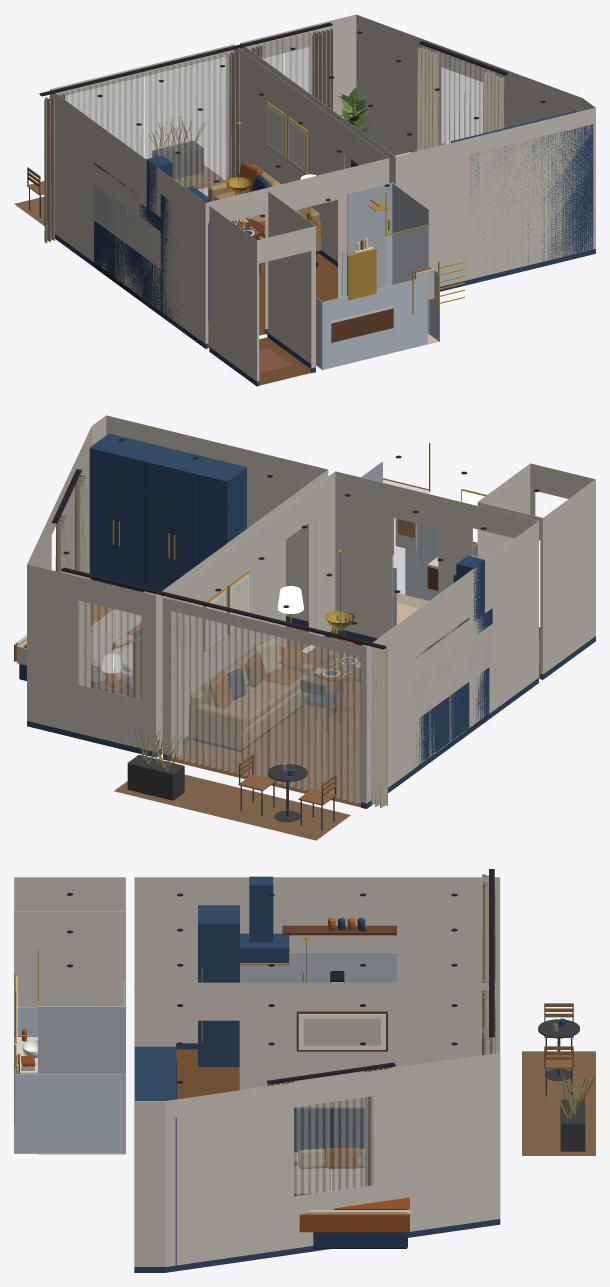
The model's file is unit-1.B-lisboa.glb.
3 renders of one model, top to bottom at view 1: azimuth 30°, elevation 25°; view 2: azimuth 150°, elevation 25°; view 3: azimuth 270°, elevation 25°, orthographic. The views are drawn at different scales.
Parts seen in each view (by area): view 1: int-wall, int-sheer, int-curtain, int-joineryTall, int-bathWall, int-showerWall, int-joinery, int-metal, int-glass, int-matteBlack, int-wood, int-splash (+10 smaller); view 2: int-wall, int-sheer, int-joineryTall, int-floor, int-curtain, int-joinery, int-sofa, int-deck, int-outdoor, int-glass, int-wood, int-bathWall (+12 smaller); view 3: int-wall, int-bathWall, int-joineryTall, int-sheer, int-showerWall, int-deck, int-joinery, int-headboard, int-splash, int-bedThrow, int-outdoor, int-art:7:1 (+11 smaller).
Boxes of the visible parts, left/top/right/bottom form: int-wall: left=50, top=14, right=595, bottom=381; int-sheer: left=58, top=30, right=494, bottom=196; int-curtain: left=44, top=28, right=504, bottom=243; int-joineryTall: left=160, top=111, right=593, bottom=328; int-bathWall: left=316, top=250, right=439, bottom=369; int-showerWall: left=347, top=182, right=429, bottom=333; int-joinery: left=55, top=155, right=595, bottom=386; int-metal: left=139, top=101, right=464, bottom=314; int-glass: left=386, top=225, right=430, bottom=333; int-matteBlack: left=39, top=22, right=508, bottom=315; int-wood: left=94, top=159, right=393, bottom=342; int-splash: left=94, top=185, right=160, bottom=256; int-wall: left=27, top=415, right=595, bottom=803; int-sheer: left=55, top=486, right=360, bottom=803; int-joineryTall: left=89, top=433, right=456, bottom=592; int-floor: left=171, top=621, right=370, bottom=807; int-curtain: left=55, top=474, right=387, bottom=807; int-joinery: left=27, top=555, right=595, bottom=808; int-sofa: left=189, top=641, right=314, bottom=749; int-deck: left=114, top=774, right=350, bottom=840; int-outdoor: left=127, top=754, right=336, bottom=830; int-glass: left=383, top=479, right=429, bottom=607; int-wood: left=94, top=567, right=469, bottom=718; int-bathWall: left=392, top=523, right=477, bottom=627; int-wall: left=14, top=877, right=500, bottom=1266; int-bathWall: left=14, top=1007, right=125, bottom=1153; int-joineryTall: left=134, top=905, right=239, bottom=1271; int-sheer: left=294, top=885, right=495, bottom=1196; int-showerWall: left=38, top=981, right=125, bottom=1153; int-deck: left=522, top=1051, right=595, bottom=1155; int-joinery: left=134, top=876, right=500, bottom=1272; int-headboard: left=294, top=1107, right=407, bottom=1248; int-splash: left=240, top=952, right=396, bottom=982; int-bedThrow: left=294, top=1194, right=409, bottom=1232; int-outdoor: left=538, top=1004, right=585, bottom=1151; int-art:7:1: left=303, top=1018, right=380, bottom=1045.
Bounding box in the file's own units: 7.77 × 2.8 × 8.26.
